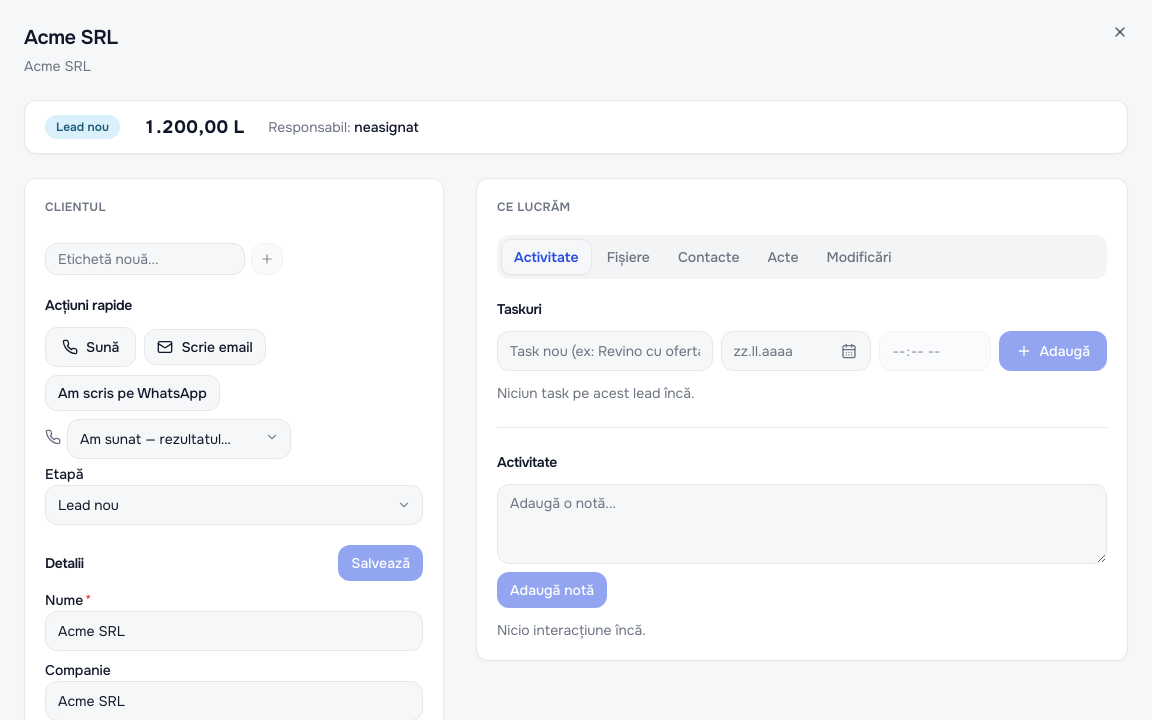
Fișa leadului pe file › [blocant] fila „Contacte” își cere datele abia la deschidere — nu la deschiderea fișei
This screenshot has width=1152, height=720.
Click the tab "Contacte": (709, 257) top-left (665, 239), bottom-right (752, 275)
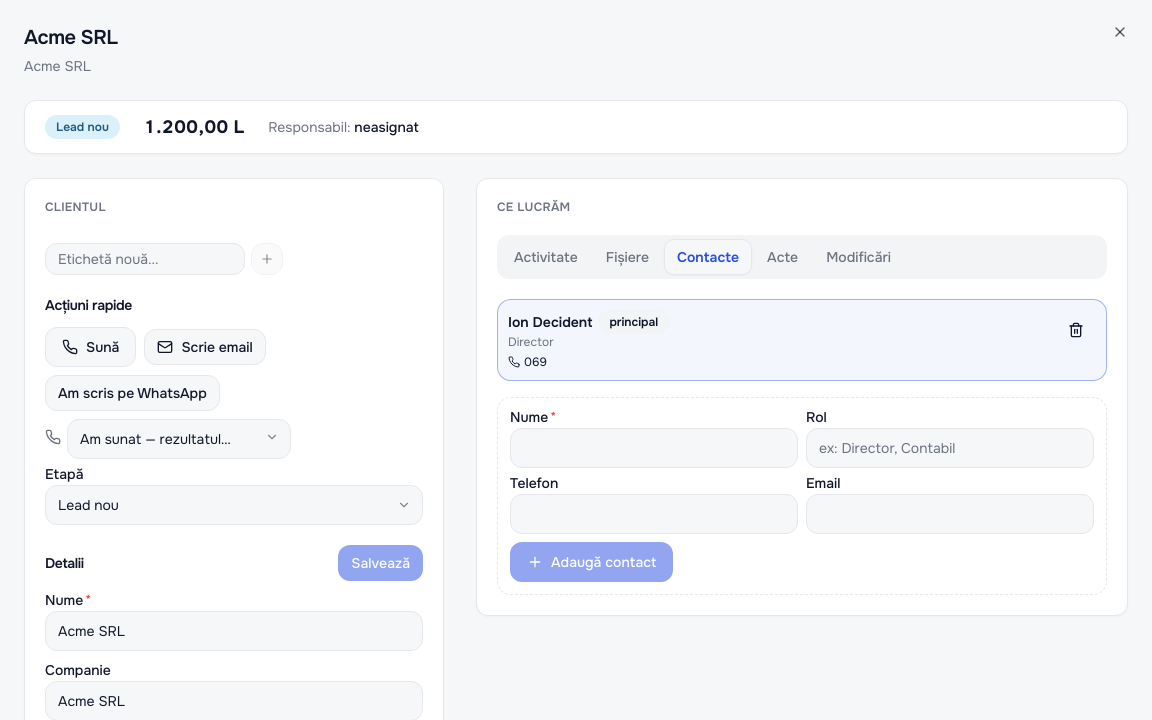
expect the text "Ion Decident" is shown: met, box top-left (508, 312), bottom-right (592, 332)
expect the text "principal" is shown: met, box top-left (598, 310), bottom-right (669, 334)
